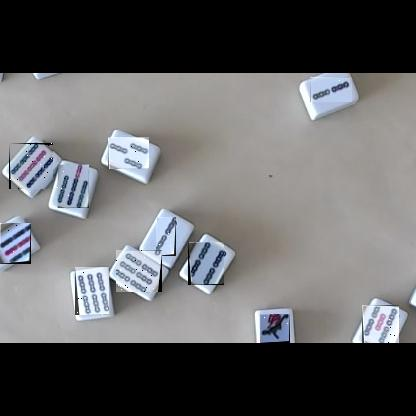1s: (260, 314, 290, 343)
2s: (310, 77, 352, 102), (156, 217, 176, 256)
3s: (108, 137, 149, 169)
4s: (188, 242, 224, 285)
5s: (362, 305, 399, 343)
6s: (116, 250, 162, 292), (75, 267, 109, 315)
7s: (57, 164, 89, 208)
9s: (9, 143, 53, 189), (0, 223, 31, 264)
